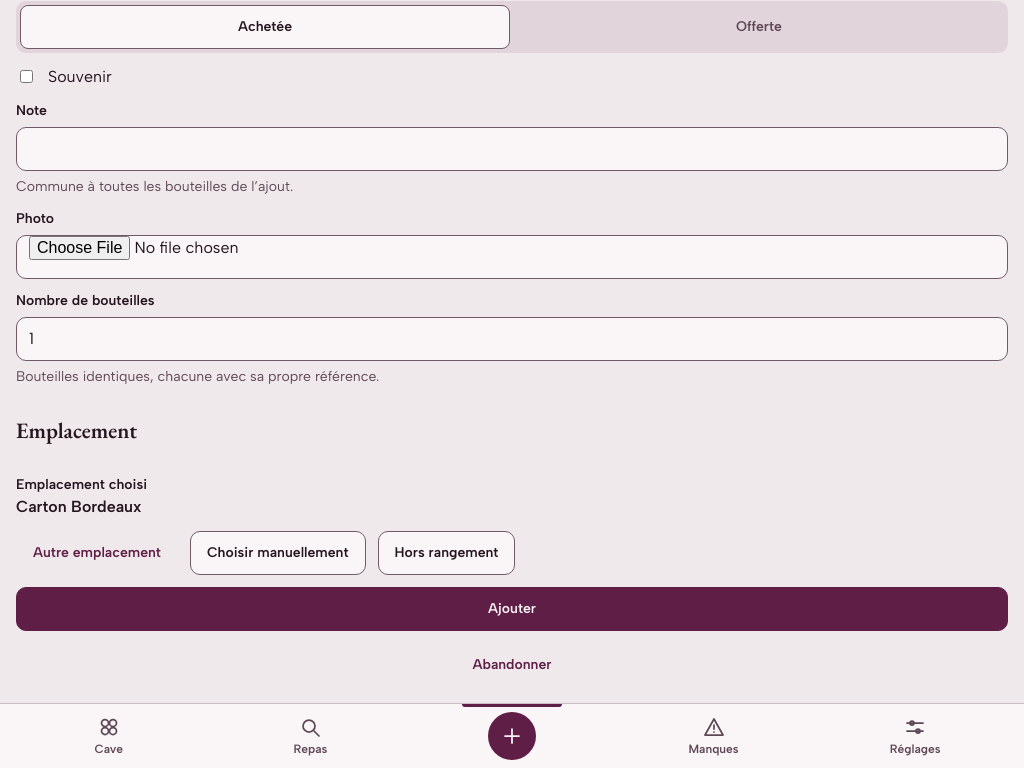
Scenario: Ajout de bouteilles : formulaire (CdC §3.3) › depuis un carton : emplacement pré-rempli
(page scrolled)
Expected: the text "Emplacement choisi" is shown, [16,476,147,493]
Expected: the text "Carton Bordeaux" is shown, [16,497,142,516]
Step 1. Click the button "Ajouter" → coordinates (512, 609), box [16,587,1008,631]
(page scrolled)
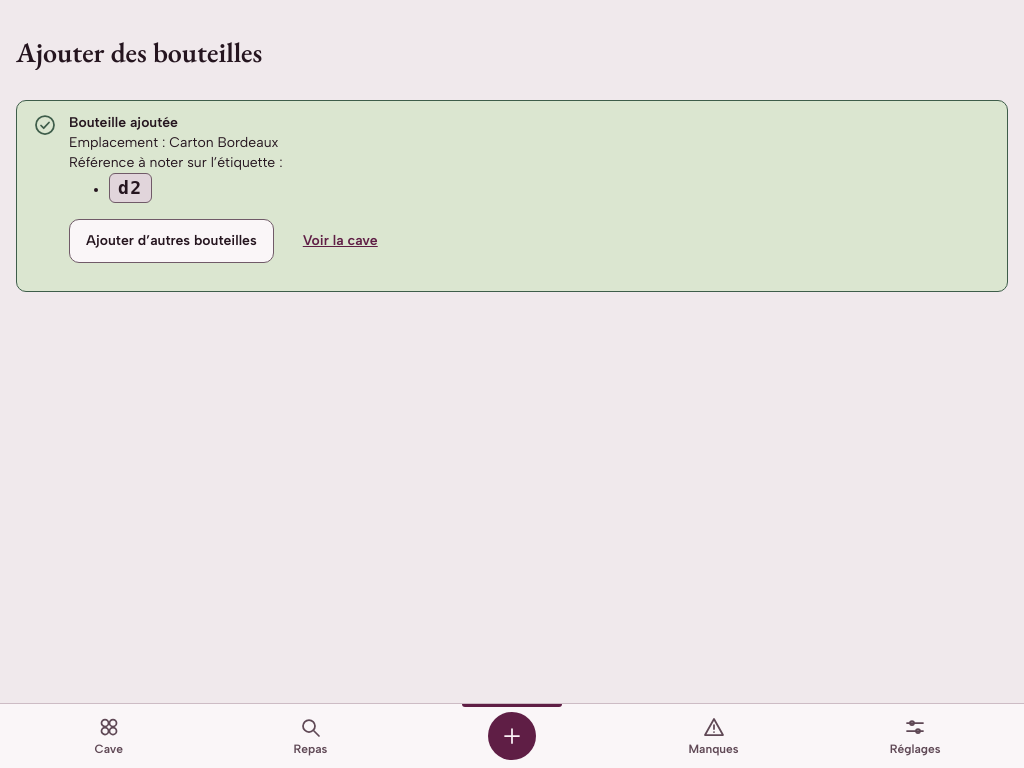
Expected: the message "Bouteille ajoutée" is shown, [16,100,1008,292]
